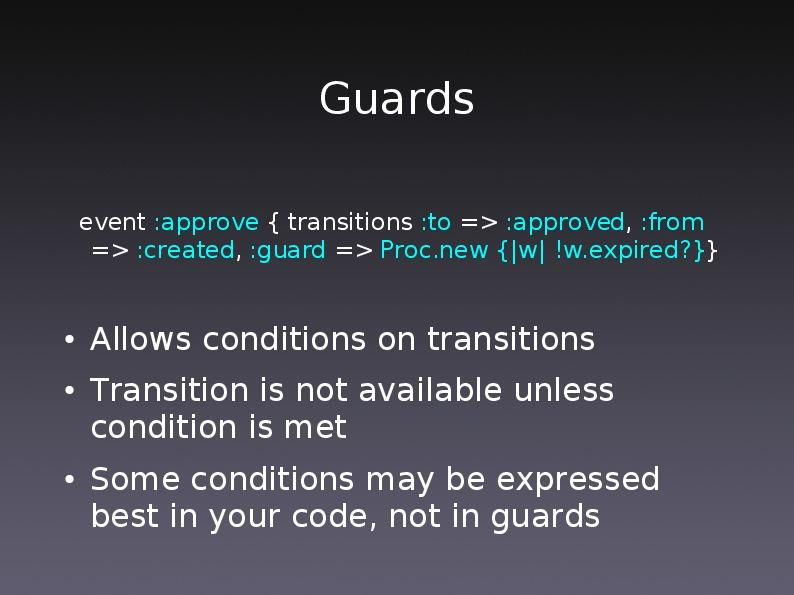paragraph: (60, 187, 736, 553)
title: (317, 72, 484, 128)
